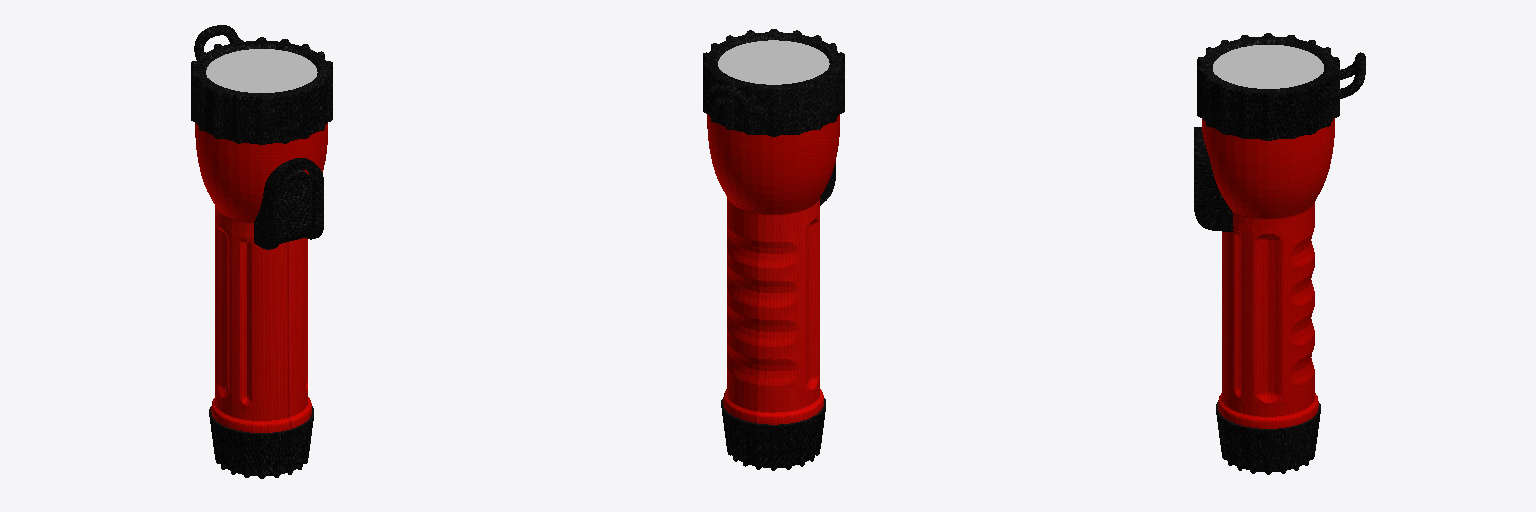
3 views of the same model, side by side, from view 1: azimuth 30°, elevation 25°; view 2: azimuth 150°, elevation 25°; view 3: azimuth 270°, elevation 25° (orthographic).
Visible parts, largest first — view 1: 18413_Miniature_Flashligh_v2.003, 18413_Miniature_Flashligh_v2.002, 18413_Miniature_Flashligh_v2, 18413_Miniature_Flashligh_v2.007, 18413_Miniature_Flashligh_v2.005, 18413_Miniature_Flashligh_v2.004, 18413_Miniature_Flashligh_v2.006; view 2: 18413_Miniature_Flashligh_v2.003, 18413_Miniature_Flashligh_v2.002, 18413_Miniature_Flashligh_v2, 18413_Miniature_Flashligh_v2.007, 18413_Miniature_Flashligh_v2.006; view 3: 18413_Miniature_Flashligh_v2.003, 18413_Miniature_Flashligh_v2.002, 18413_Miniature_Flashligh_v2, 18413_Miniature_Flashligh_v2.007, 18413_Miniature_Flashligh_v2.005, 18413_Miniature_Flashligh_v2.006.
Part boxes in pixels (left/top/right/bottom): 18413_Miniature_Flashligh_v2.003: left=195, top=123, right=327, bottom=432; 18413_Miniature_Flashligh_v2.002: left=191, top=37, right=332, bottom=144; 18413_Miniature_Flashligh_v2: left=209, top=406, right=313, bottom=478; 18413_Miniature_Flashligh_v2.007: left=206, top=49, right=317, bottom=92; 18413_Miniature_Flashligh_v2.005: left=254, top=158, right=323, bottom=249; 18413_Miniature_Flashligh_v2.004: left=280, top=170, right=311, bottom=243; 18413_Miniature_Flashligh_v2.006: left=194, top=25, right=239, bottom=59; 18413_Miniature_Flashligh_v2.003: left=707, top=114, right=839, bottom=424; 18413_Miniature_Flashligh_v2.002: left=703, top=29, right=844, bottom=136; 18413_Miniature_Flashligh_v2: left=721, top=397, right=825, bottom=470; 18413_Miniature_Flashligh_v2.007: left=718, top=40, right=829, bottom=84; 18413_Miniature_Flashligh_v2.006: left=706, top=84, right=765, bottom=115; 18413_Miniature_Flashligh_v2.003: left=1202, top=118, right=1334, bottom=428; 18413_Miniature_Flashligh_v2.002: left=1197, top=33, right=1339, bottom=140; 18413_Miniature_Flashligh_v2: left=1216, top=402, right=1320, bottom=474; 18413_Miniature_Flashligh_v2.007: left=1213, top=45, right=1323, bottom=88; 18413_Miniature_Flashligh_v2.005: left=1194, top=127, right=1232, bottom=231; 18413_Miniature_Flashligh_v2.006: left=1331, top=52, right=1365, bottom=100.
Size of the model in its own units: 0.575 by 1.76 by 0.6843.
3 materials, 2 textured.